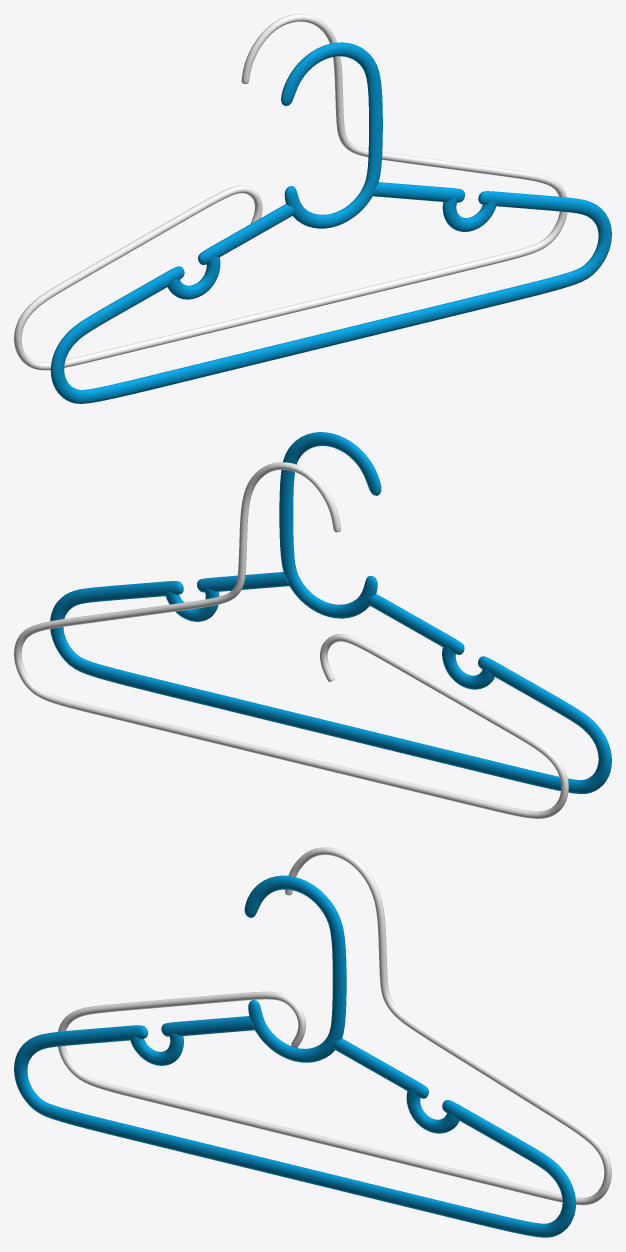
The model's file is hangers.glb.
The picture shows the model from 3 angles, top to bottom: view 1: azimuth 30°, elevation 25°; view 2: azimuth 150°, elevation 25°; view 3: azimuth 330°, elevation 25°; orthographic projection.
Visible parts, largest first — view 1: Circle_2, cabide 1_1; view 2: Circle_2, cabide 1_1; view 3: Circle_2, cabide 1_1.
Boxes of the visible parts, box(x1,y1,x2,y2) form: Circle_2: box(50, 42, 611, 403); cabide 1_1: box(14, 14, 567, 370); Circle_2: box(50, 432, 611, 793); cabide 1_1: box(14, 462, 568, 818); Circle_2: box(14, 875, 575, 1237); cabide 1_1: box(58, 847, 611, 1205).
Size of the model in its own units: 4.08 by 2.1 by 0.558.
